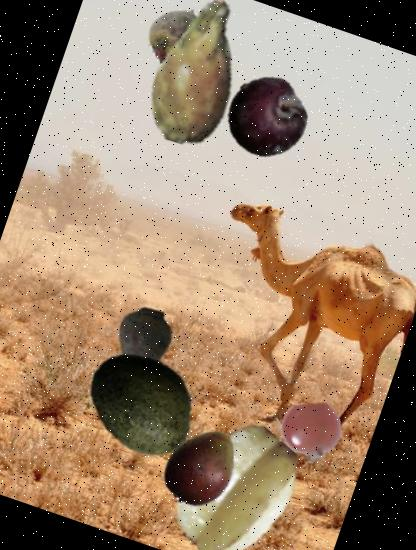Avocado: (71, 330, 217, 476)
Beetroot: (87, 294, 196, 403), (133, 0, 219, 79)
Cactus: (101, 0, 292, 166)
Carambula: (146, 404, 324, 550)
Mango: (152, 416, 255, 519)
Plum: (216, 66, 318, 169)
Redcurrant: (274, 394, 350, 470)
